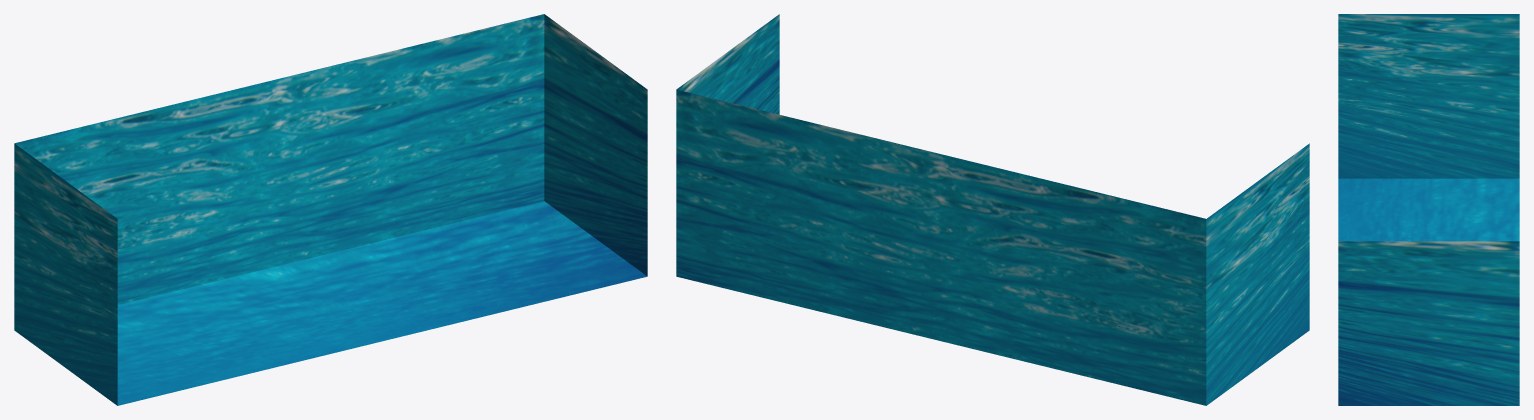
Rendered from UW_WaterFloor.dae.
The picture shows the model from 3 angles, left to right: view 1: azimuth 30°, elevation 25°; view 2: azimuth 150°, elevation 25°; view 3: azimuth 270°, elevation 25°; orthographic projection. The views are drawn at different scales.
Visible parts, largest first — view 1: Cube_001; view 2: Cube_001; view 3: Cube_001.
Part boxes in pixels (<box>): Cube_001: <box>14,14,647,405</box>; Cube_001: <box>676,14,1309,405</box>; Cube_001: <box>1338,14,1519,405</box>.
Bounding box in the file's own units: 2082 × 702 × 702.
1 material, 1 textured.
